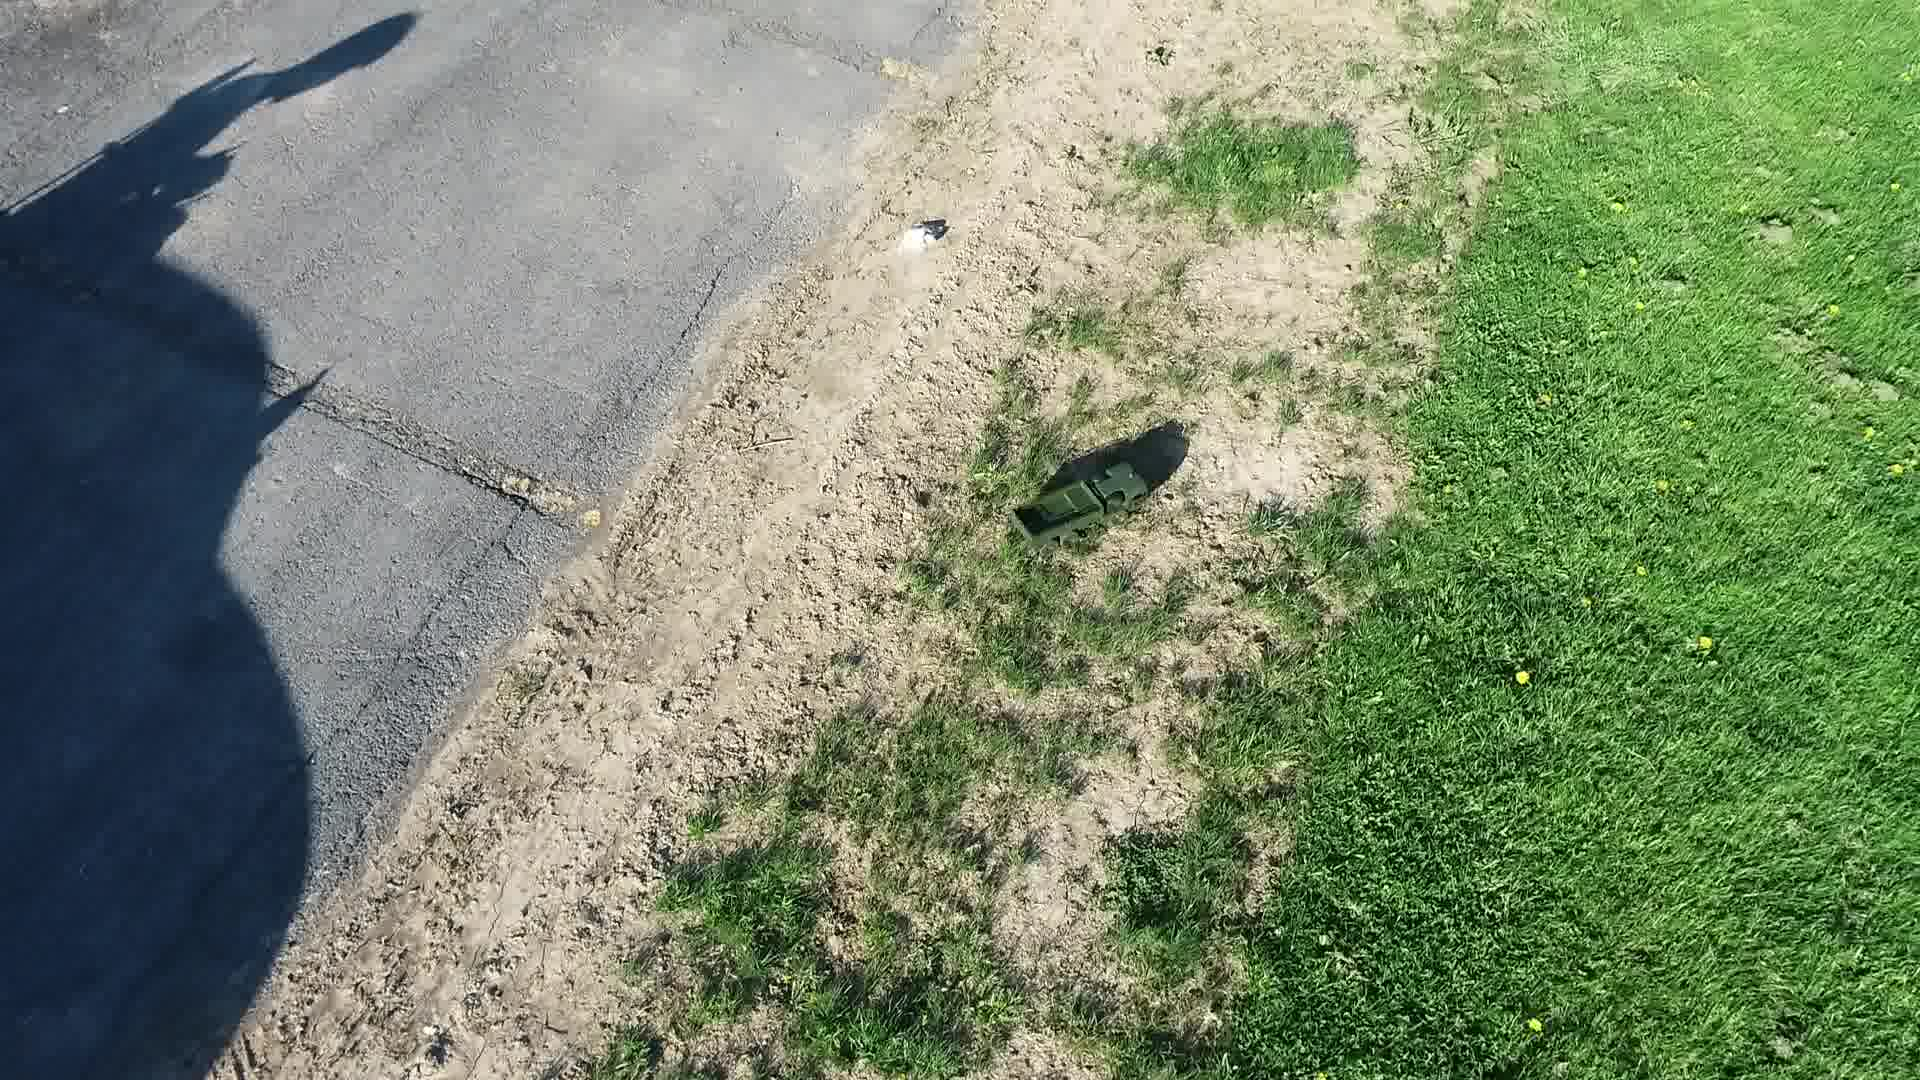transporter9: (1002, 458, 1155, 553)
